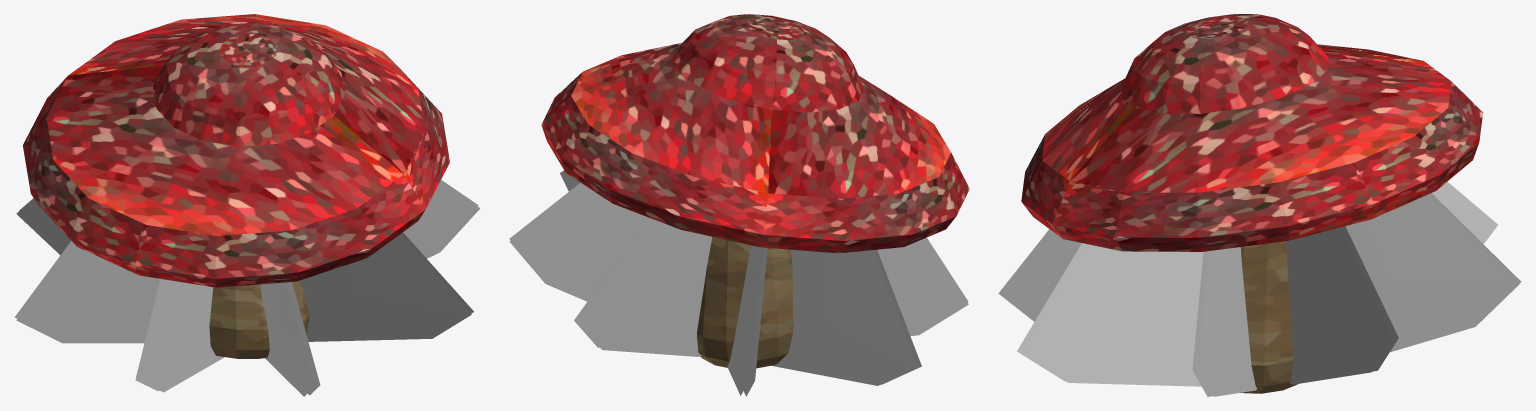
Rendered from Mushroom.fbx.
The picture shows the model from 3 angles, left to right: view 1: azimuth 30°, elevation 25°; view 2: azimuth 150°, elevation 25°; view 3: azimuth 270°, elevation 25°; orthographic projection. The views are drawn at different scales.
Parts seen in each view (by area): view 1: Mushroom, MushroomSpores; view 2: Mushroom, MushroomSpores; view 3: Mushroom, MushroomSpores.
Boxes of the visible parts, x1,y1,x2,y2 form: Mushroom: (23, 14, 449, 358); MushroomSpores: (14, 180, 480, 396); Mushroom: (541, 14, 969, 368); MushroomSpores: (509, 170, 968, 396); Mushroom: (1021, 14, 1483, 393); MushroomSpores: (998, 181, 1521, 396).
Bounding box in the file's own units: 146 × 107 × 147.
2 materials, 1 textured.
